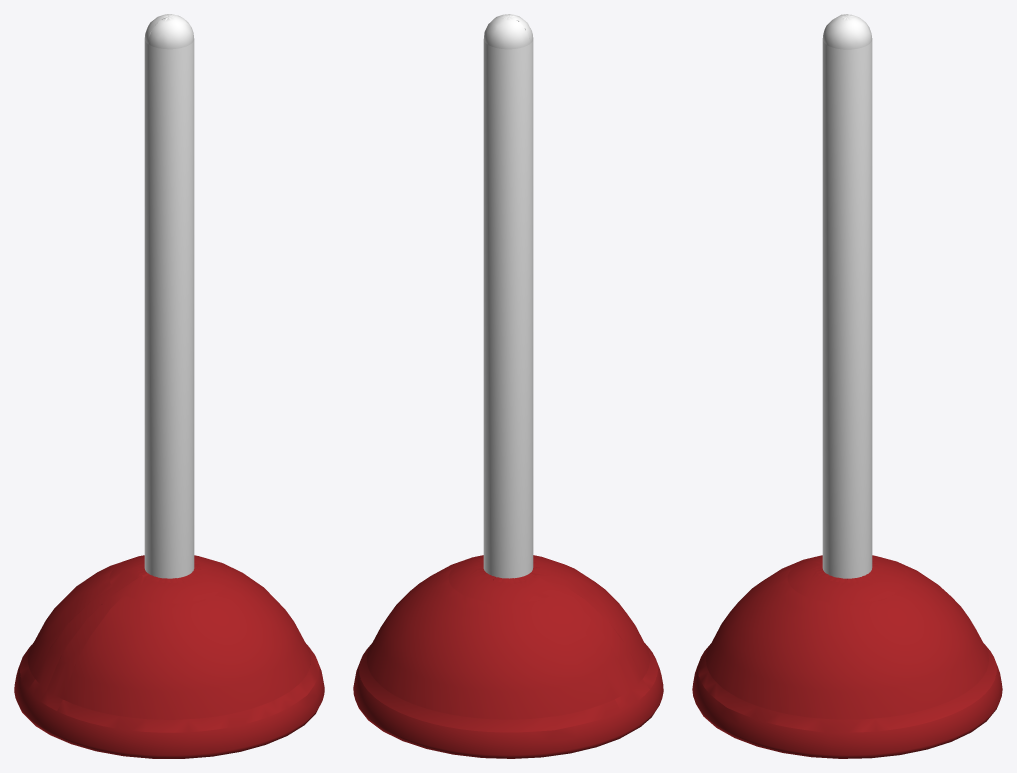
File: plunger 1.fbx
3 views of the same model, side by side, from view 1: azimuth 30°, elevation 25°; view 2: azimuth 150°, elevation 25°; view 3: azimuth 270°, elevation 25° (orthographic).
Parts seen in each view (by area): view 1: Cylinder; view 2: Cylinder; view 3: Cylinder.
Part boxes in pixels (<box>): Cylinder: <box>14,14,324,758</box>; Cylinder: <box>353,14,663,758</box>; Cylinder: <box>692,14,1002,758</box>.
Size of the model in its own units: 1252 by 3018 by 1252.
